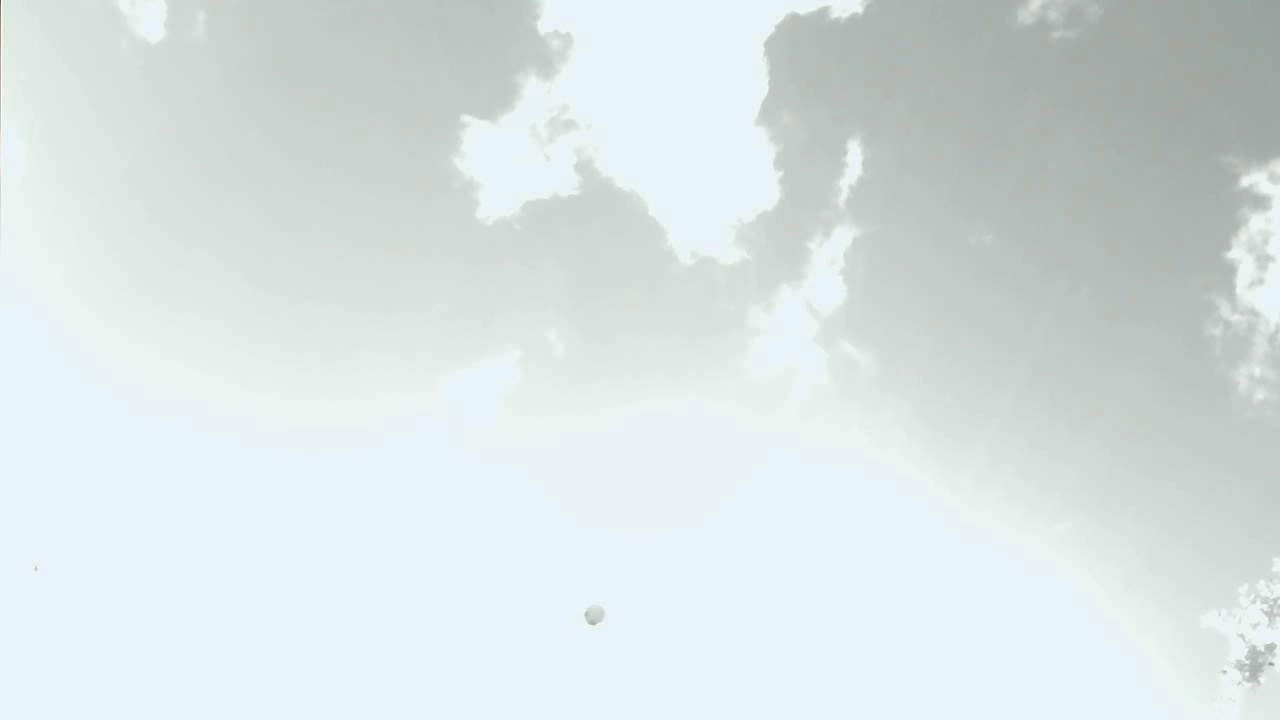Football-Spotter: (584, 605, 604, 624)
